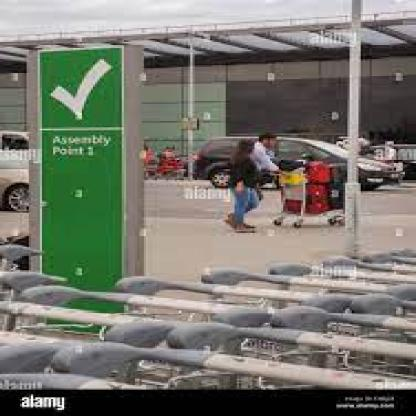airport-trolley: (271, 155, 348, 231)
